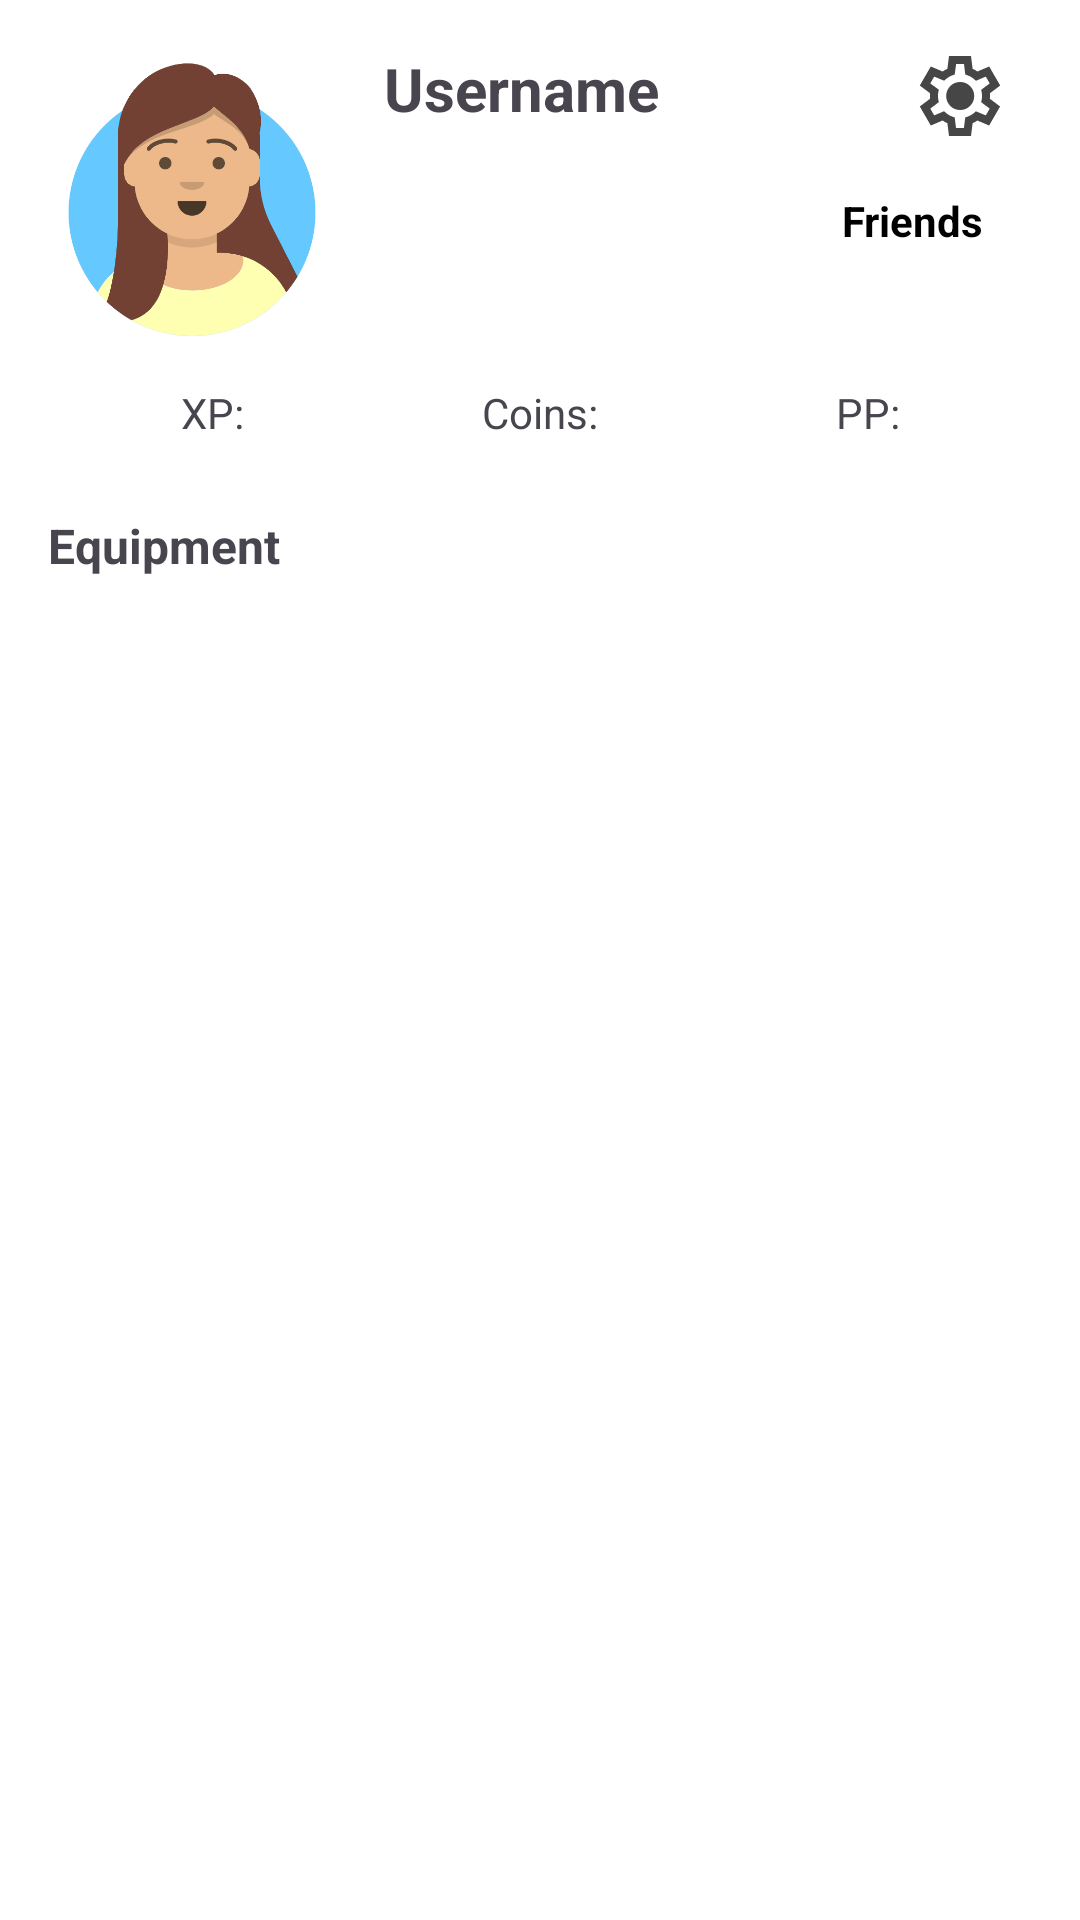

Icon bounding boxes for this 1080x1920 phone screenshot, format [left=x1, top=y1, right=x2, bottom=y2]:
settings: [left=920, top=56, right=1000, bottom=136]
